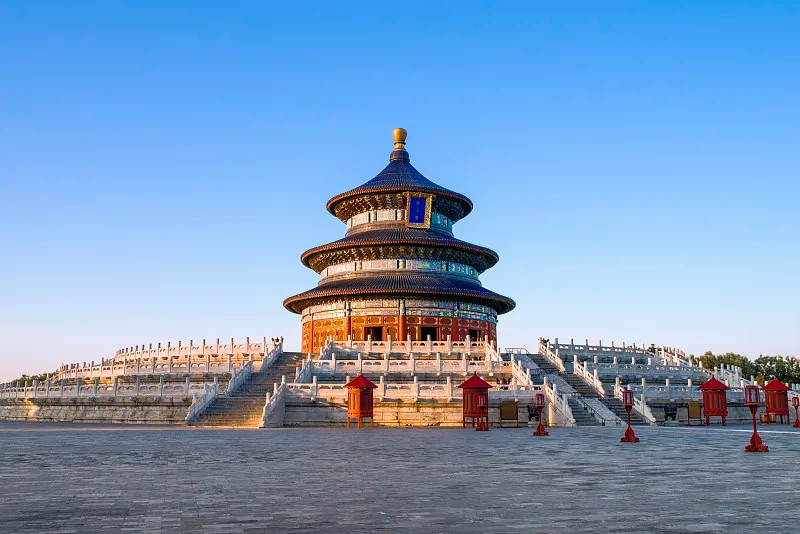Heaven: (280, 127, 519, 352)
